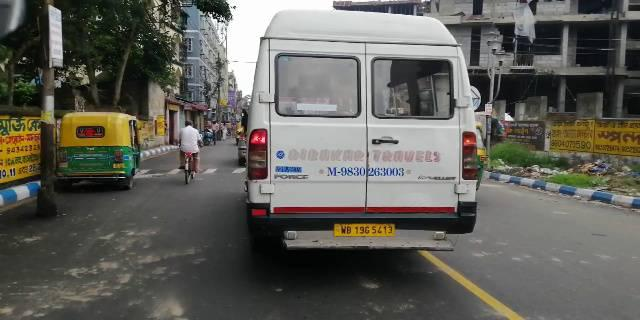Autorickshaw: (56, 108, 144, 194)
Cycle: (168, 118, 204, 186)
Van: (243, 6, 483, 272)
